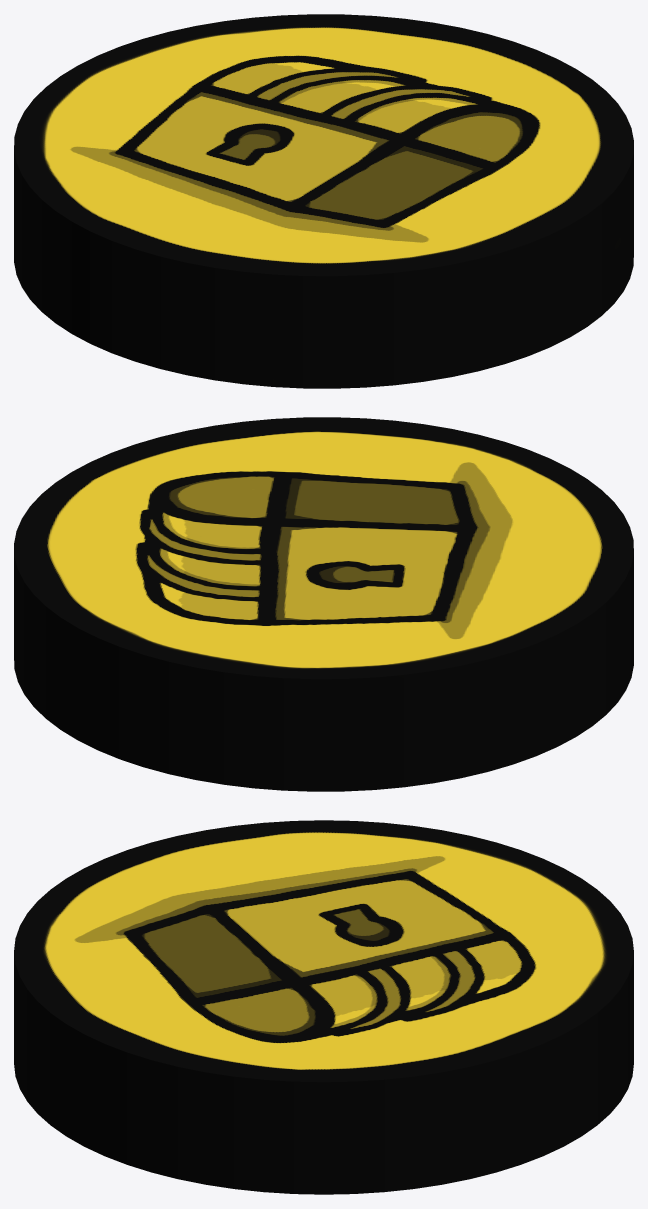
File: chest_token.glb
3 views of the same model, one above another, from view 1: azimuth 30°, elevation 25°; view 2: azimuth 150°, elevation 25°; view 3: azimuth 270°, elevation 25° (orthographic).
Parts seen in each view (by area): view 1: Cylinder; view 2: Cylinder; view 3: Cylinder.
Part boxes in pixels (<box>): Cylinder: <box>14,14,633,388</box>; Cylinder: <box>14,417,633,791</box>; Cylinder: <box>14,820,633,1194</box>.
Bounding box in the file's own units: 0.5 × 0.1 × 0.5.
Materials: 1 (1 with a texture image).
